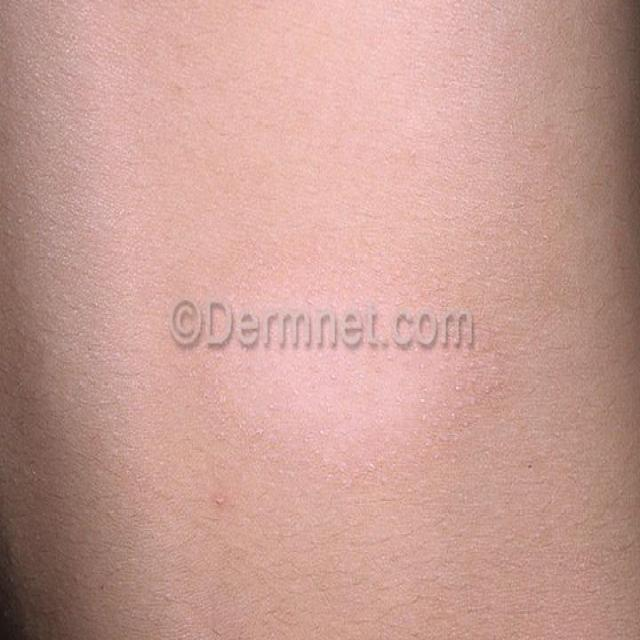Eczema: (191, 251, 516, 486)
